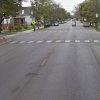Crosswalk: (11, 34, 100, 52)
